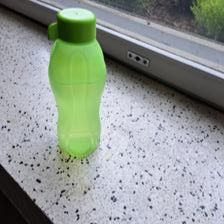bottle: (46, 7, 109, 155)
